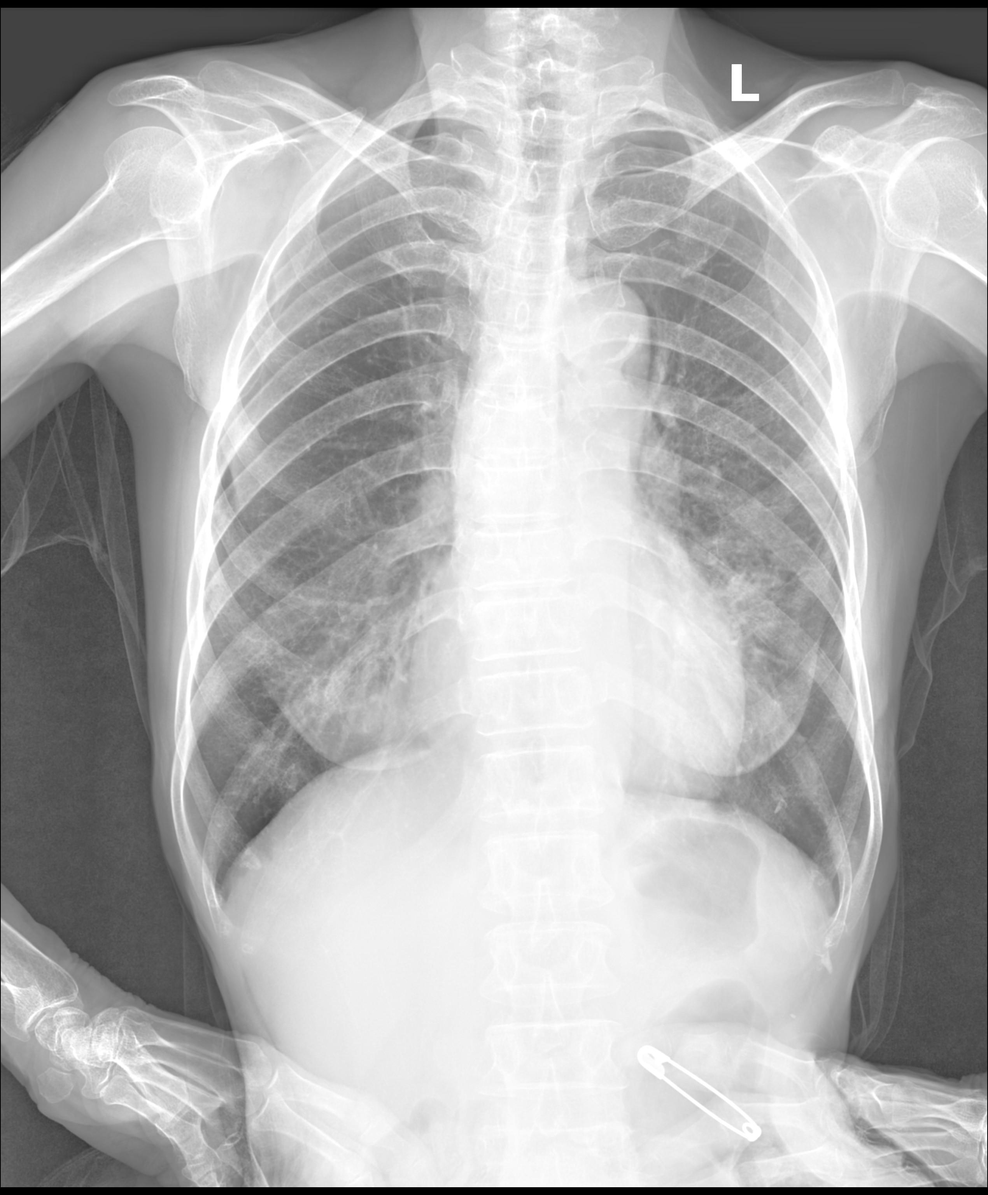Aortic enlargement: (543, 279, 653, 371)
Pulmonary fibrosis: (697, 520, 813, 672), (767, 778, 789, 815)
